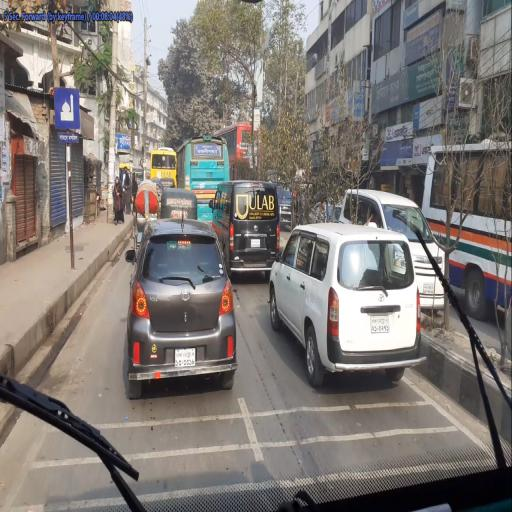bus: (422, 137, 512, 325), (177, 134, 231, 226), (217, 123, 265, 182)
car: (267, 221, 429, 391)
minibus: (150, 145, 179, 191)
minivan: (337, 184, 449, 314)
rickshaw: (131, 178, 163, 267)
suv: (126, 202, 240, 404), (274, 183, 296, 231)
three wheelers (CNG): (160, 188, 200, 221)
van: (215, 180, 282, 283)
